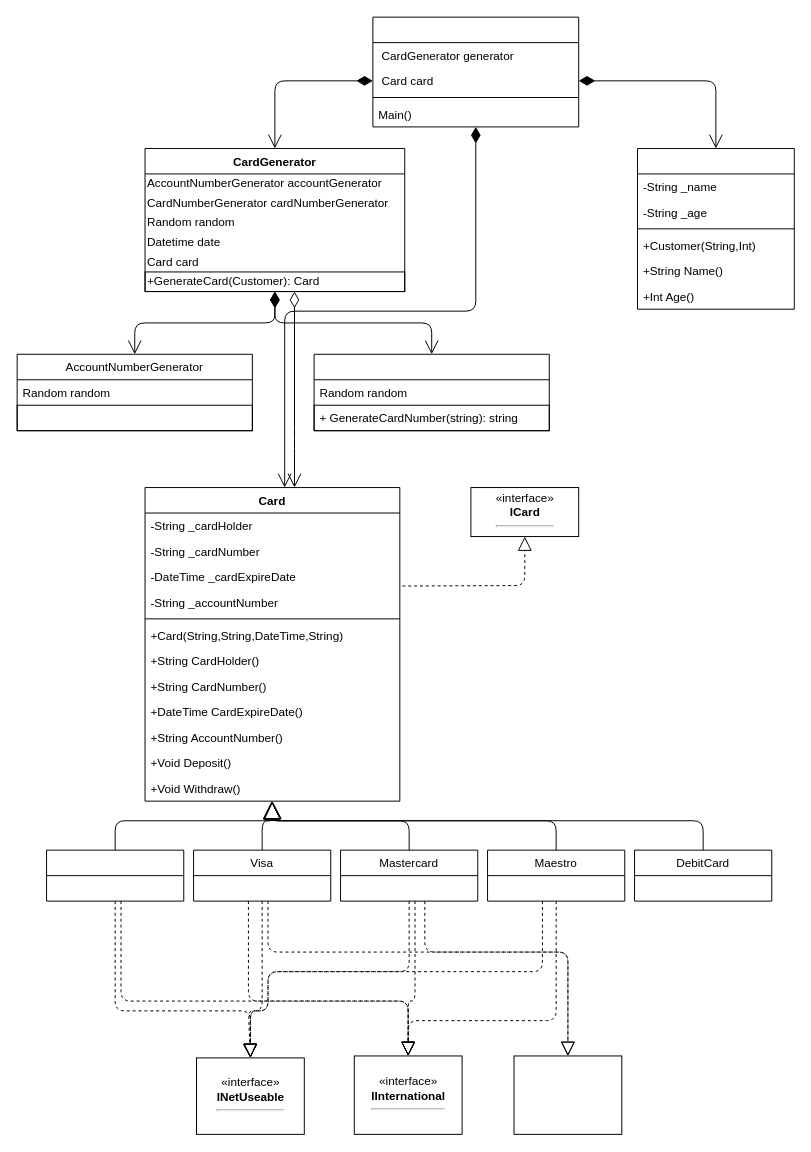
Image size: 811x1152. Some labels were removed from this diagram. Each missing label, with the box of its shape:
+ GenerateAccountNumber(string): string: (16, 404, 252, 431)
CardNumberGenerator: (313, 353, 549, 431)
Classname: (637, 147, 794, 309)
Program: (372, 16, 579, 127)
VisaElectron: (46, 849, 184, 901)
«interface» IDebtable: (513, 1055, 622, 1134)
